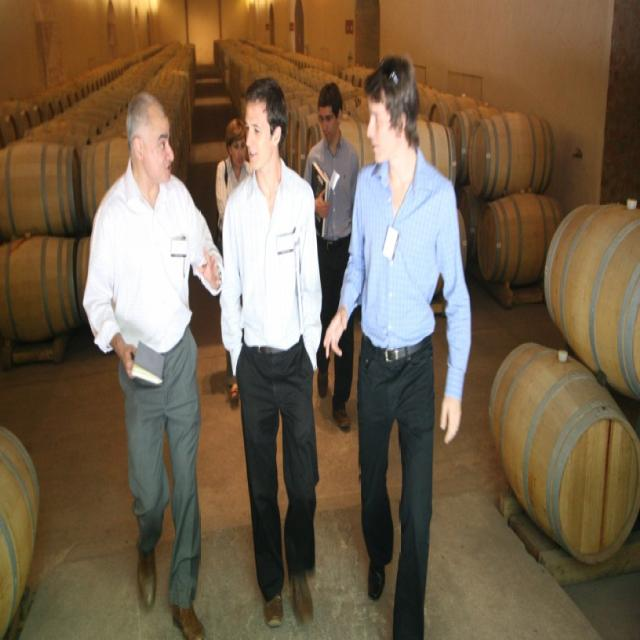body: (318, 46, 474, 638), (81, 87, 224, 639), (217, 72, 327, 634), (301, 76, 360, 436), (214, 115, 254, 410)
